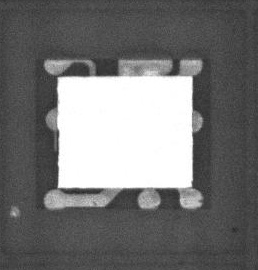DIE_INK: (8, 204, 22, 220)
